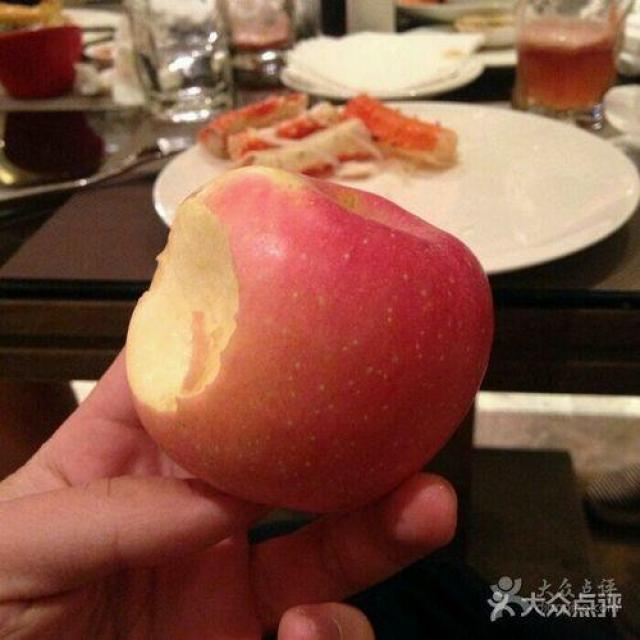Rotten: (120, 147, 500, 531)
